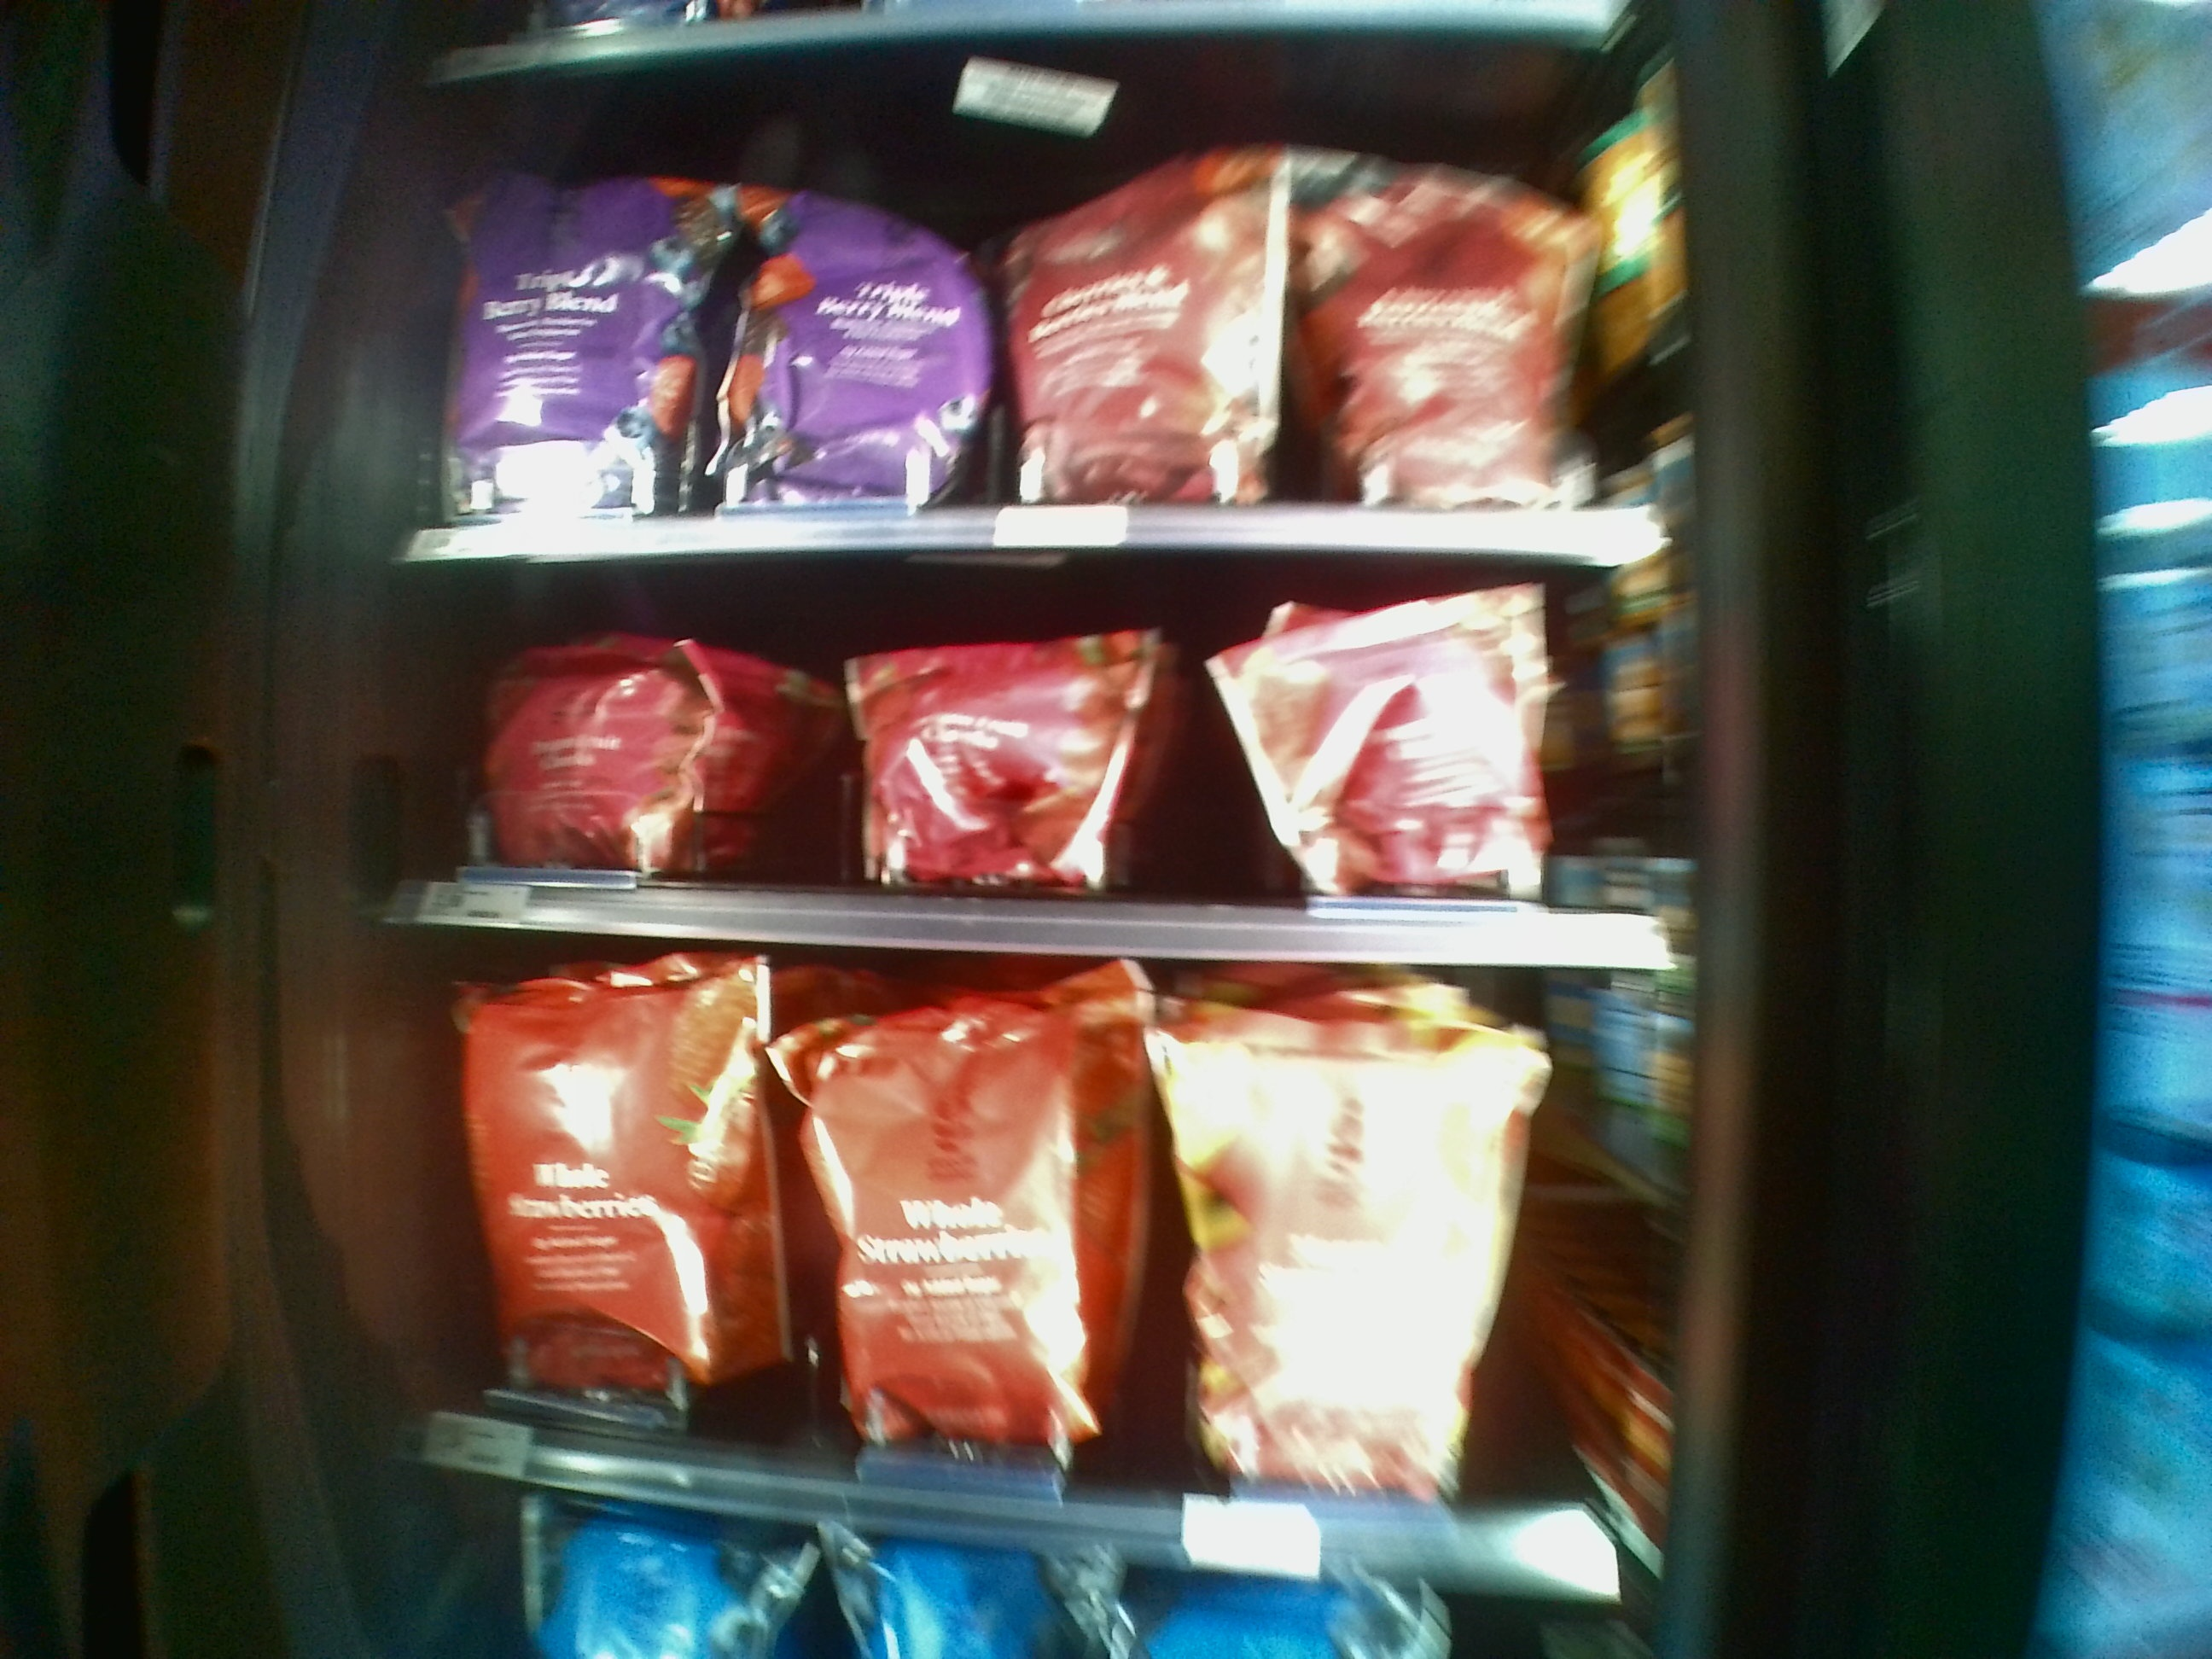shelf: (423, 938, 1662, 1584), (420, 87, 1651, 559), (423, 559, 1683, 978)
